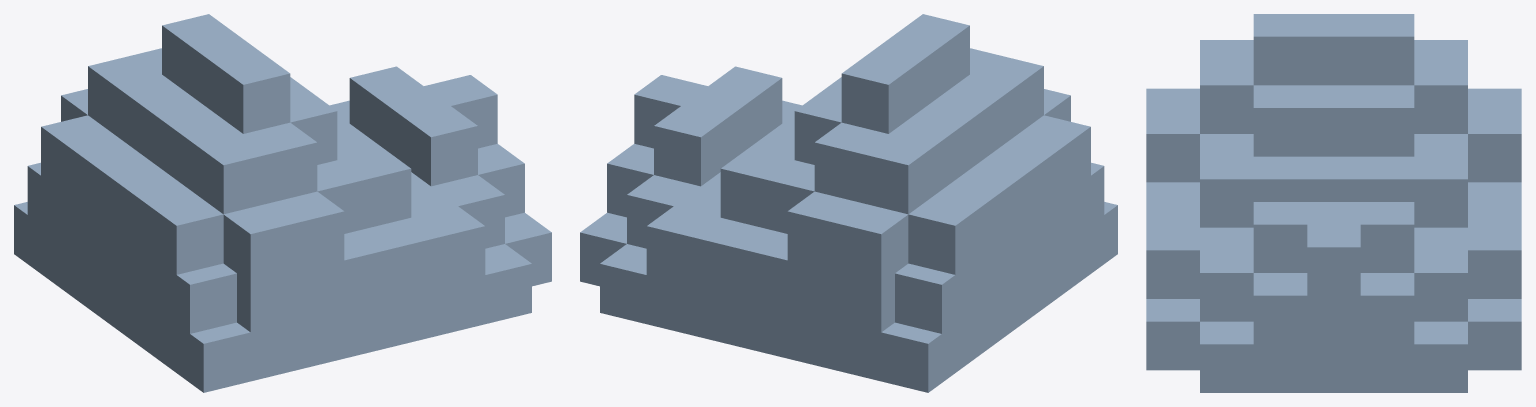
File: stone-01.glb
3 views of the same model, side by side, from view 1: azimuth 30°, elevation 25°; view 2: azimuth 150°, elevation 25°; view 3: azimuth 270°, elevation 25° (orthographic).
Parts seen in each view (by area): view 1: generated(Clone); view 2: generated(Clone); view 3: generated(Clone).
Part boxes in pixels (<box>): generated(Clone): <box>14,14,551,392</box>; generated(Clone): <box>580,14,1117,392</box>; generated(Clone): <box>1146,14,1521,392</box>.
Bounding box in the file's own units: 8 × 5 × 7.
1 material, 1 textured.
